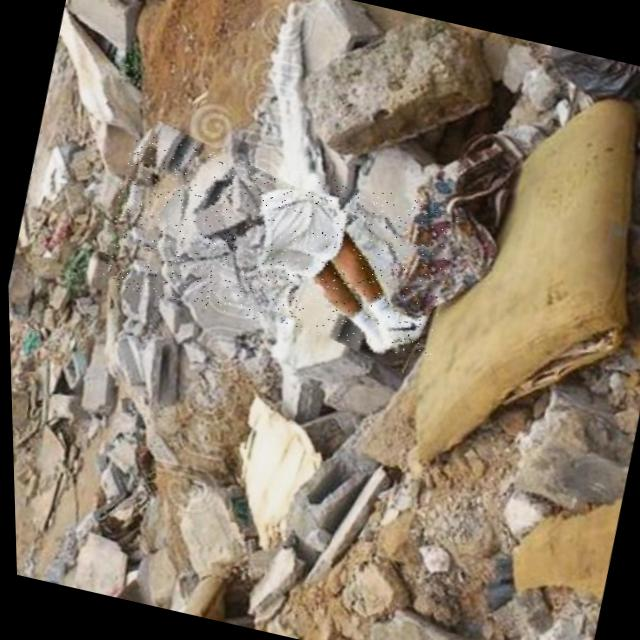Person in Rubble: (94, 130, 462, 360)
